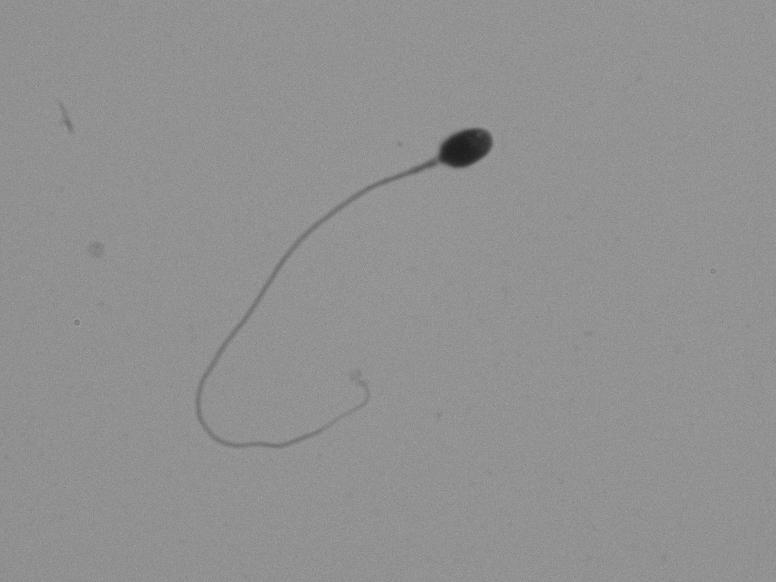Normal: (169, 100, 523, 470)
